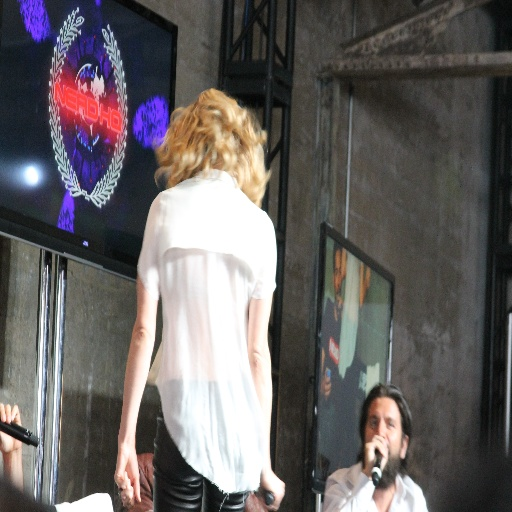hand: (108, 416, 143, 502), (257, 466, 285, 511), (0, 400, 23, 451), (364, 434, 389, 479), (322, 367, 332, 401)
